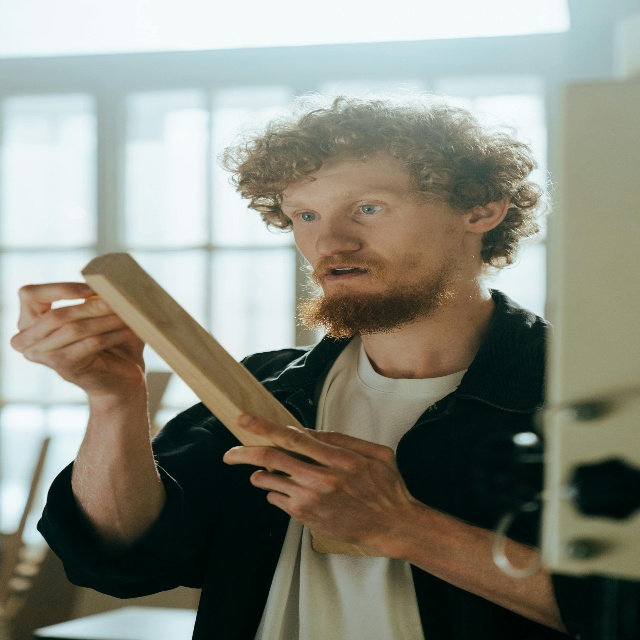Sin_guantes: (221, 404, 409, 552), (11, 277, 144, 393)
